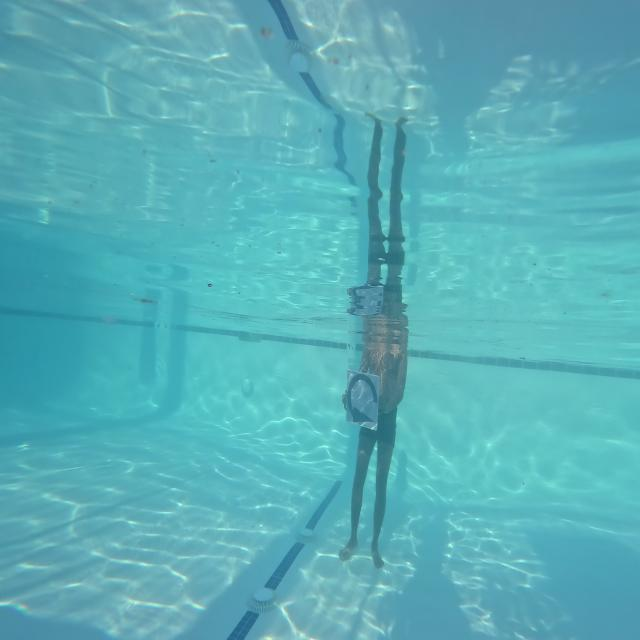blue_side: (346, 370, 381, 428)
